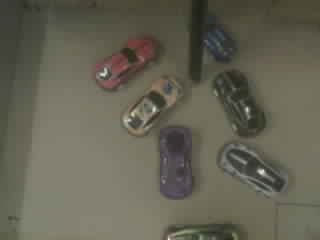Car: (218, 142, 287, 196), (213, 70, 265, 136), (122, 77, 181, 135), (97, 39, 153, 87), (160, 126, 192, 198), (204, 18, 235, 60), (166, 224, 238, 239)
